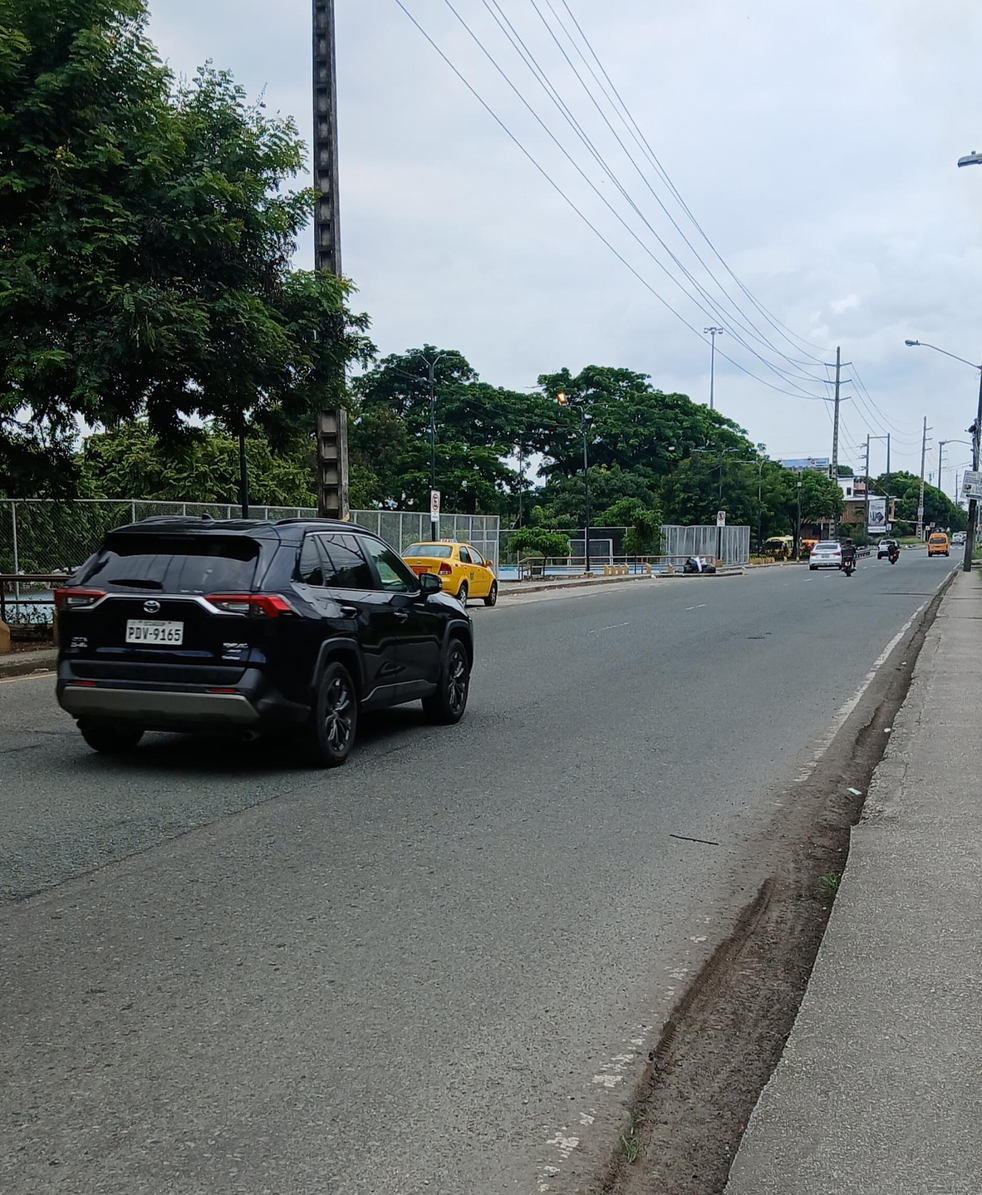license_plate: (124, 619, 184, 645)
